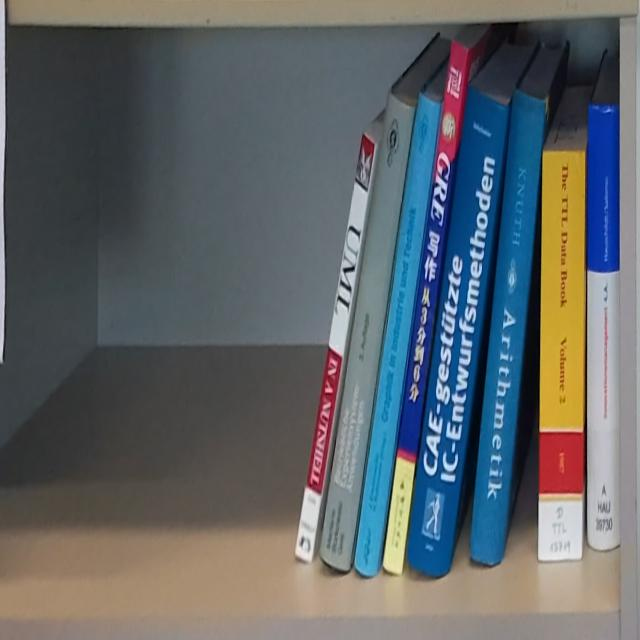Book Spine: (407, 82, 508, 578), (383, 38, 469, 576), (320, 88, 415, 572), (354, 88, 441, 578), (470, 84, 549, 569), (293, 129, 377, 564), (538, 148, 587, 559), (588, 103, 621, 553)
